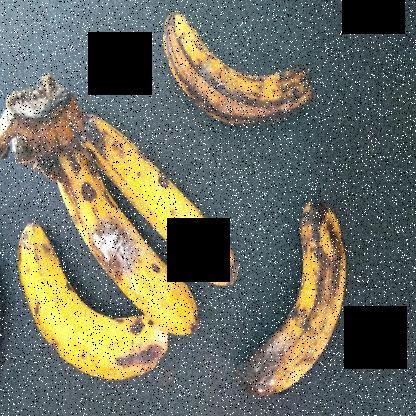overripe: (78, 111, 238, 285), (53, 151, 202, 336), (9, 234, 168, 388)
rotten: (224, 184, 364, 398), (138, 9, 326, 146)
